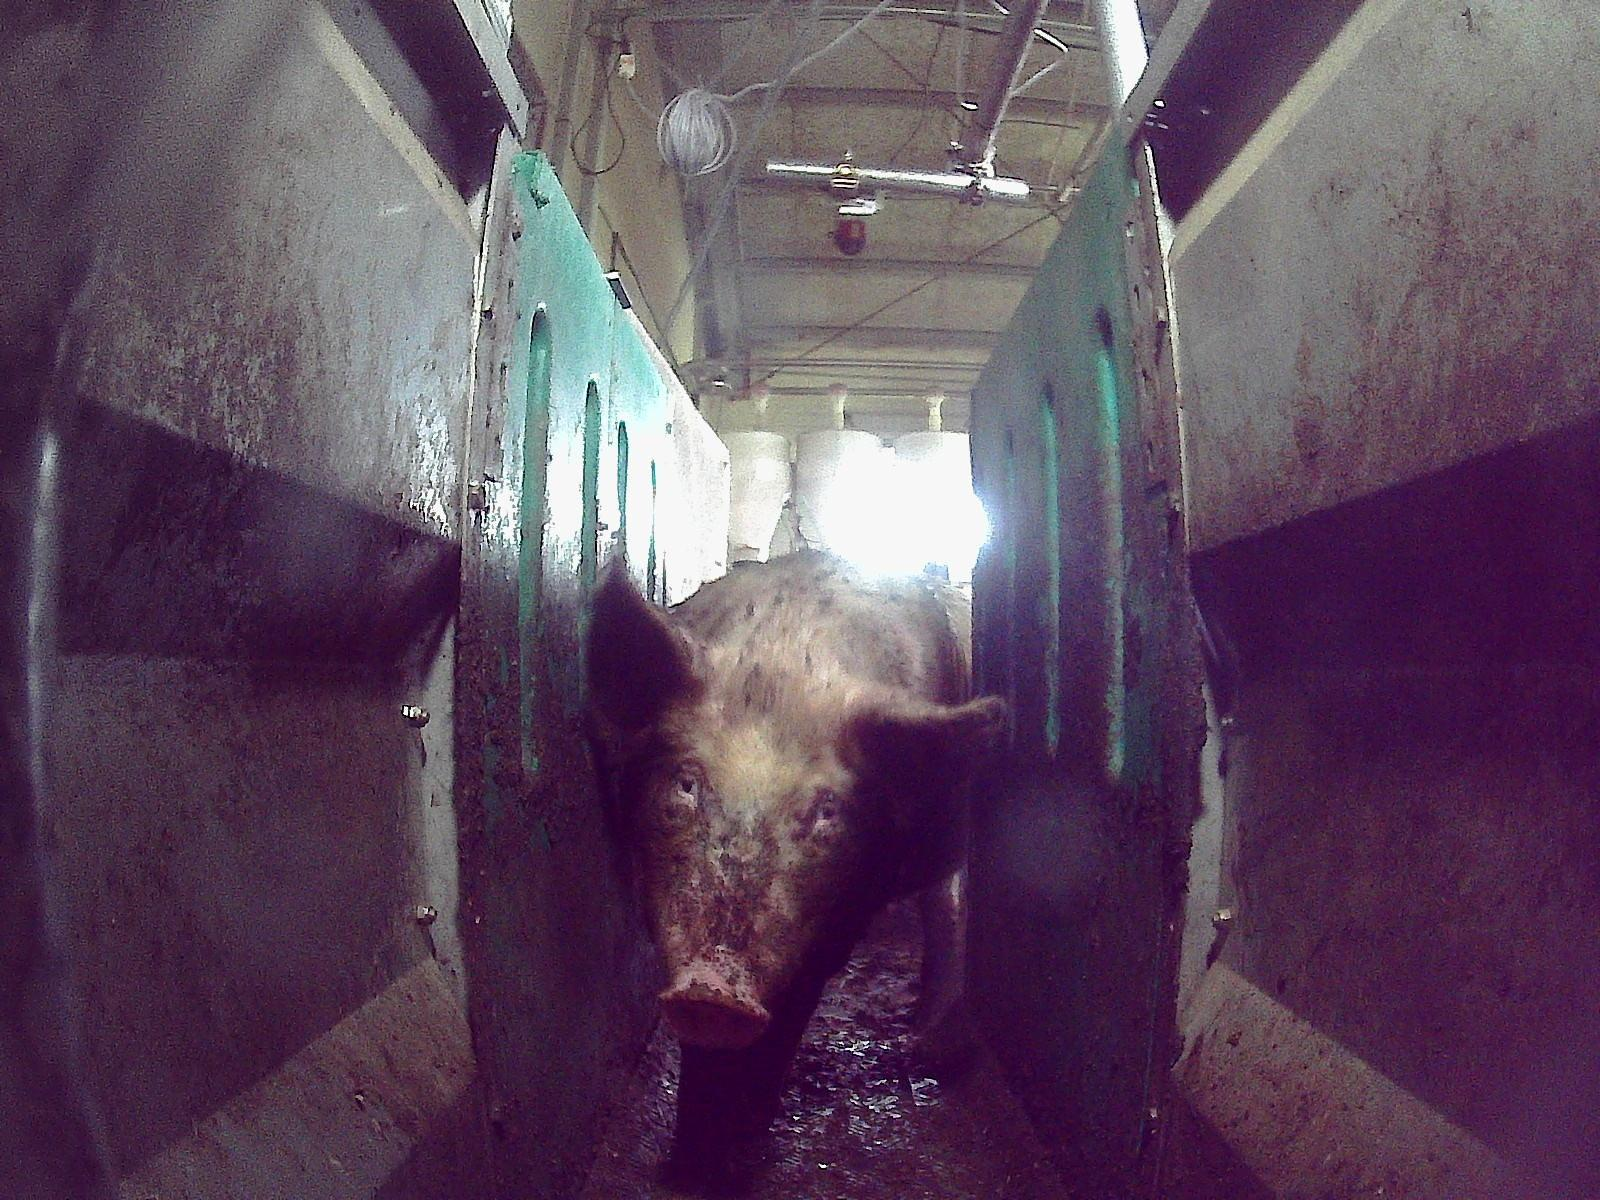Face: (629, 685, 874, 1050)
